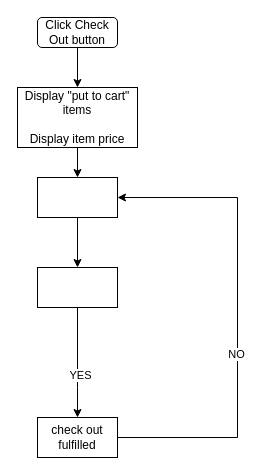
The diagram is 263 pixels wide and 475 high, and some of its shapes have lost their labels. The centre of each missing label's shape, as x and y in pixels:
Click Checkout: point (77, 197)
Pop up "Confirm Check out": point (77, 287)
